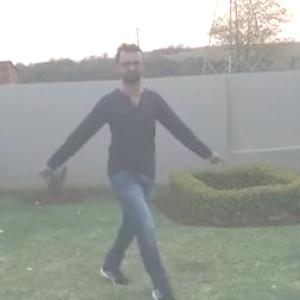land: (63, 53, 195, 246)
